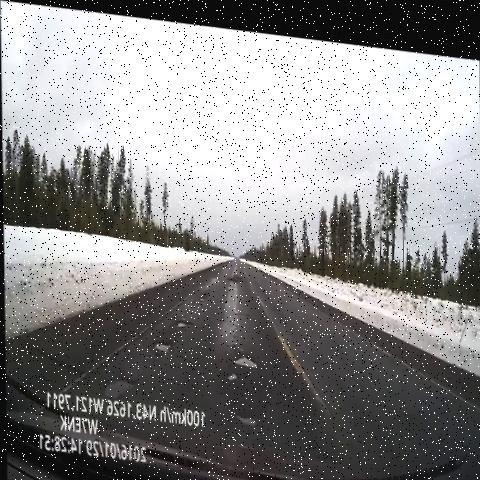pothole: (220, 338, 268, 387), (98, 365, 141, 402), (236, 401, 266, 434), (169, 307, 198, 337), (146, 333, 176, 361), (224, 262, 249, 290), (192, 284, 208, 306)
